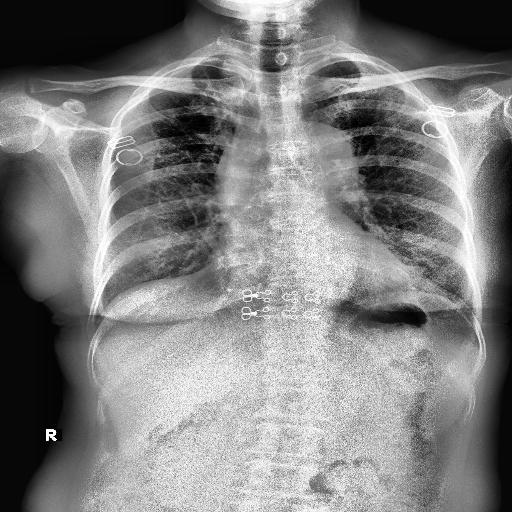0- Aortic enlargement: (215, 122, 360, 222), (282, 120, 358, 180), (286, 123, 358, 183)
11- Pleural thickening: (202, 54, 252, 70)
13- Pulmonary fibrosis: (173, 66, 241, 157), (184, 199, 214, 253), (412, 110, 428, 120)
3- Cardiomegaly: (208, 229, 414, 294), (204, 248, 414, 304)
